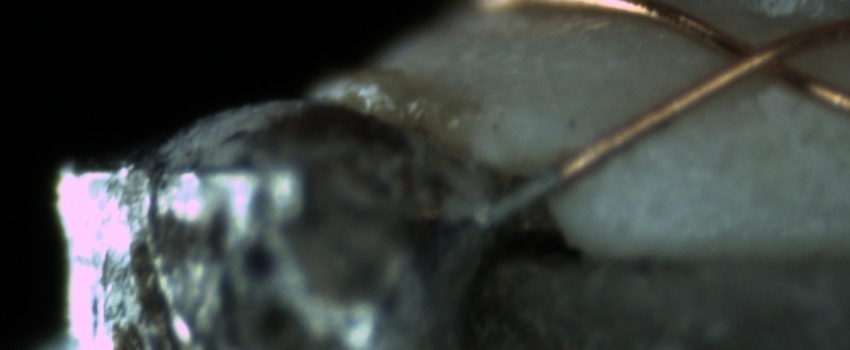CL: (709, 23, 813, 91)
